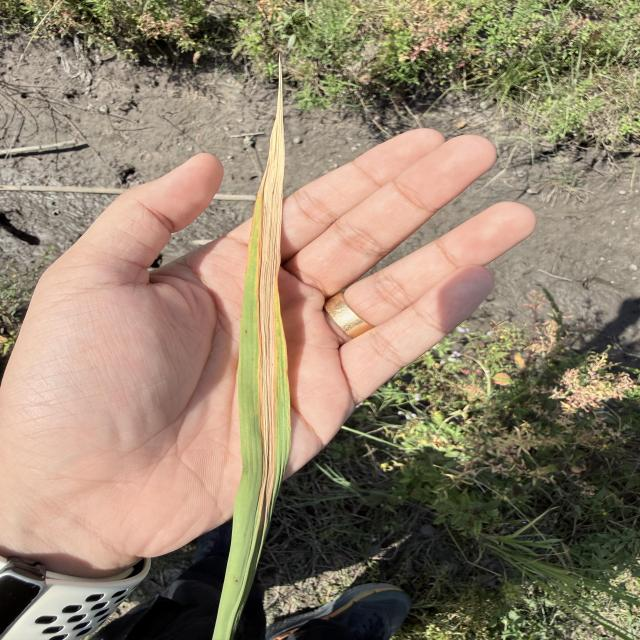Chay bia la: (257, 52, 284, 524)
